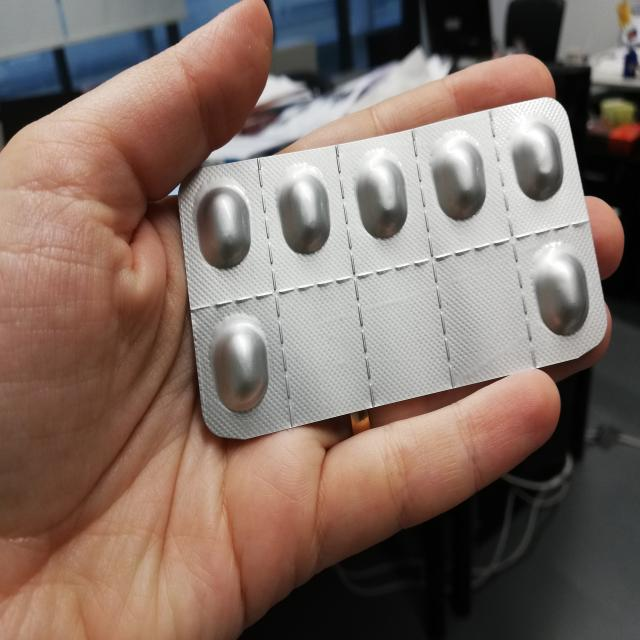Pill: (202, 306, 274, 418), (526, 237, 593, 343), (187, 182, 257, 270), (347, 152, 414, 242), (428, 128, 489, 226), (274, 165, 334, 261), (507, 117, 567, 209)
